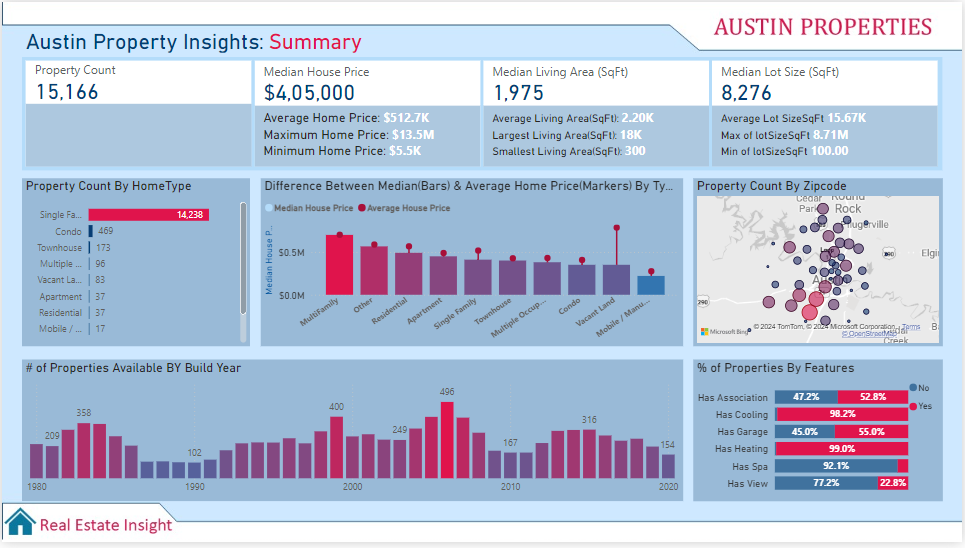

Layout of this report page (visuals, bound fields, positions):
{"tool":"powerbi","page":{"name":"Summary Insights","canvas":[1280,720],"ordinal":1},"visuals":[{"type":"group","id":"g1","title":"Summary Insights","box":[27.1,30,1227.1,635.7],"z":0},{"type":"cardVisual","fields":{"Data":["_measures.Property Count","_measures.Median House Price","_measures.Median Living Area","_measures.Median Lot Area"]},"box":[27.1,72.9,1227.1,151.4],"z":0,"group":"g1"},{"type":"map","title":"Property Count By Zipcode","fields":{"Size":["_measures.Property Count"],"Category":["location.zipcode"]},"box":[921.4,235.7,332.9,224.3],"z":1000,"group":"g1"},{"type":"barChart","title":"Property Count By HomeType","fields":{"Y":["_measures.Property Count"],"Category":["house.homeType"]},"box":[27.1,235.7,304.3,224.3],"z":2000,"group":"g1"},{"type":"lineClusteredColumnComboChart","title":"Difference Between Median(Bars) & Average Home Price(Markers) By Type","fields":{"Category":["house.homeType"],"Y":["_measures.Median House Price"],"Y2":["_measures.Average House Price"]},"box":[345.7,235.7,562.9,224.3],"z":3000,"group":"g1"},{"type":"clusteredColumnChart","title":"# of  Properties Available BY Build Year","fields":{"Category":["housing_fact.yearBuilt"],"Y":["_measures.Property Count"]},"box":[27.1,477.1,881.4,188.6],"z":4000,"group":"g1"},{"type":"hundredPercentStackedBarChart","title":"% of Properties By Features","fields":{"Series":["features_pivot.Value"],"Y":["_measures.Property Count"],"Category":["features_pivot.Attribute.2"]},"box":[921.4,477.1,332.9,188.6],"z":5000,"group":"g1"},{"type":"textbox","box":[27.1,30,587.1,42.9],"z":6000,"group":"g1"}]}

Visuals, with their boxes in screenshot pixels (x1, y1, x2, y2), scaled from the page's 1280x720 canvas onto the 965x548 screenshot:
"Summary Insights" group: 20 23 946 507
cardVisual - _measures.Property Count x _measures.Median House Price: 20 55 946 171
"Property Count By Zipcode" map: 695 179 946 350
"Property Count By HomeType" barChart: 20 179 250 350
"Difference Between Median(Bars) & Average Home Price(Markers) By Type" lineClusteredColumnComboChart: 261 179 685 350
"# of  Properties Available BY Build Year" clusteredColumnChart: 20 363 685 507
"% of Properties By Features" hundredPercentStackedBarChart: 695 363 946 507
textbox: 20 23 463 55
